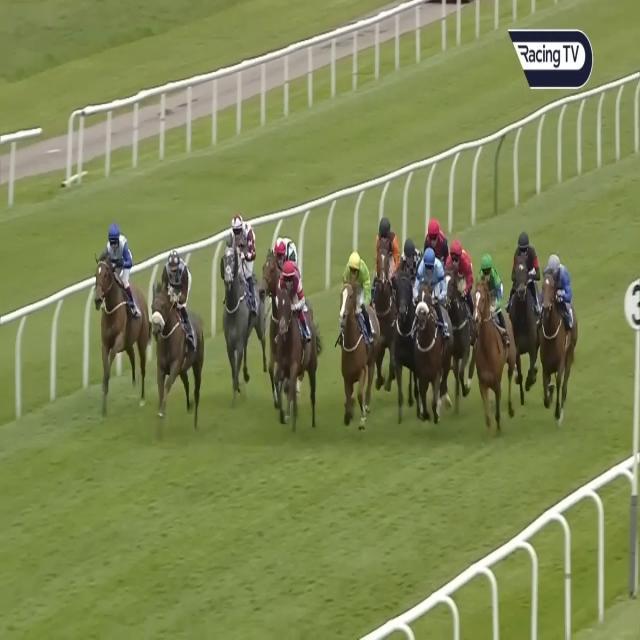horses-racing: (93, 222, 150, 408), (147, 247, 203, 418), (220, 213, 260, 383), (472, 253, 510, 417), (341, 253, 378, 420), (272, 265, 310, 422), (541, 253, 573, 428), (415, 251, 446, 404), (511, 223, 540, 385), (445, 245, 475, 395), (371, 210, 400, 347), (395, 238, 420, 378), (264, 232, 300, 306), (419, 219, 451, 261)
